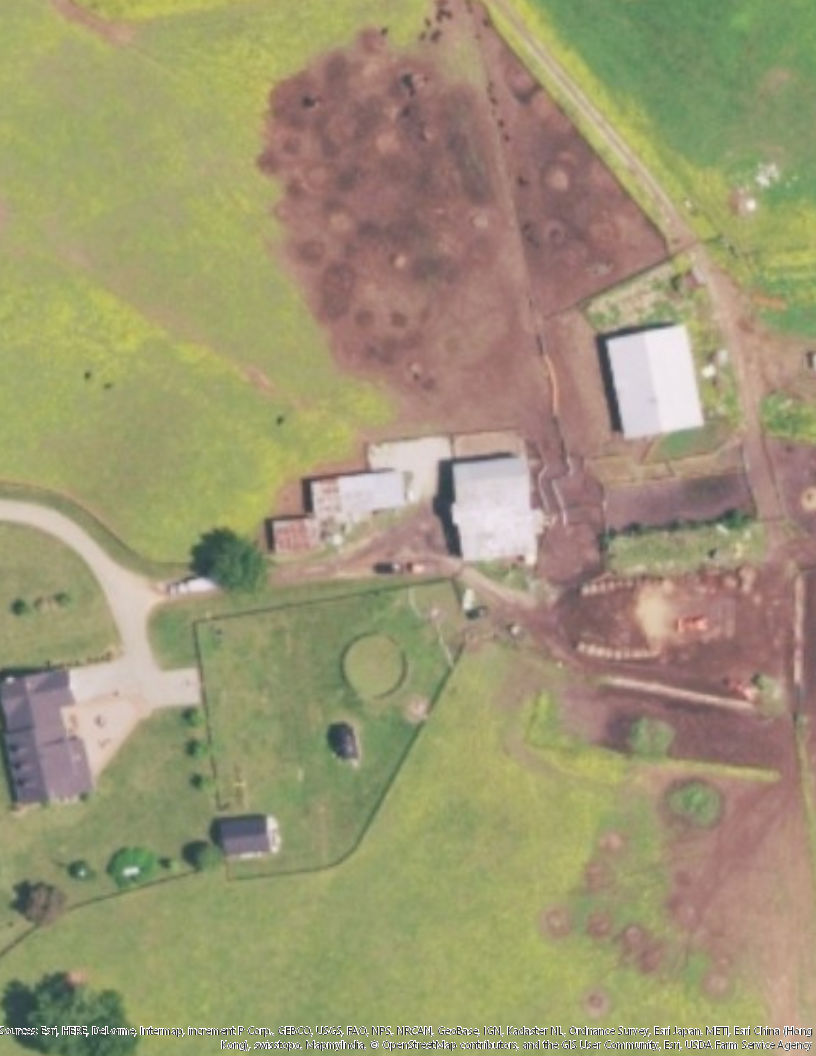cafo: (263, 434, 548, 565)
